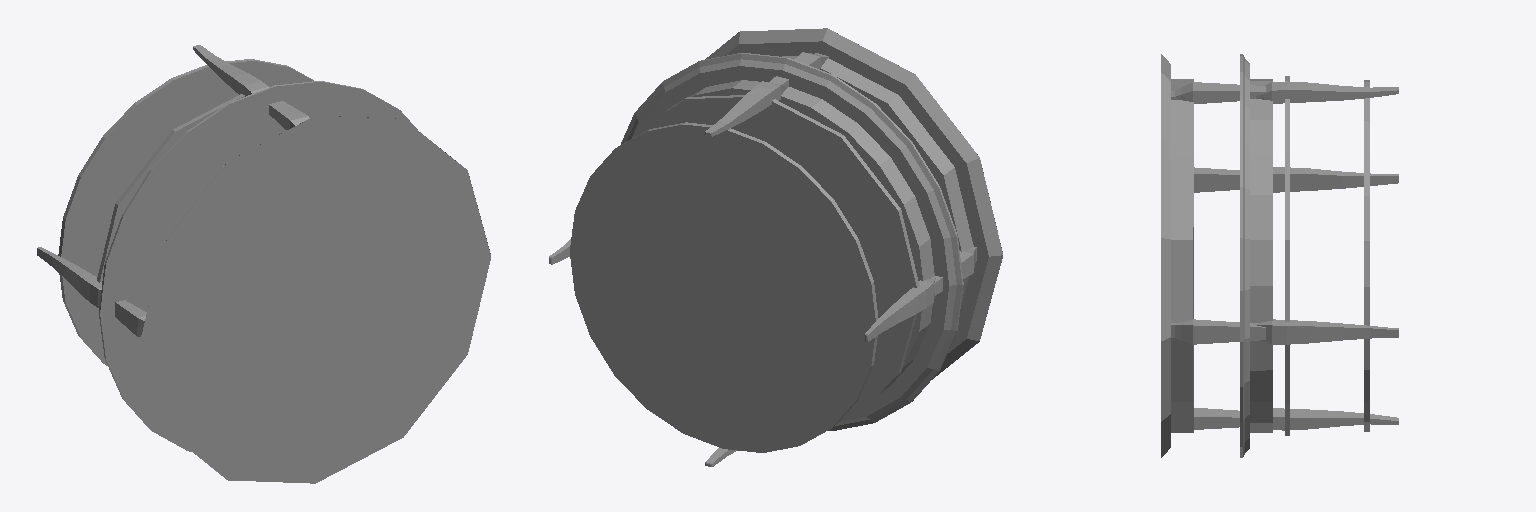
File: bnk_prop_lounge_table_round.obj
3 renders of one model, left to right at view 1: azimuth 30°, elevation 25°; view 2: azimuth 150°, elevation 25°; view 3: azimuth 270°, elevation 25°, orthographic.
Visible parts, largest first — view 1: g_bnk_prop_lounge_table_round_lod1, g_bnk_prop_lounge_table_round; view 2: g_bnk_prop_lounge_table_round, g_bnk_prop_lounge_table_round_lod1; view 3: g_bnk_prop_lounge_table_round, g_bnk_prop_lounge_table_round_lod1.
Part boxes in pixels (bbox=[...]): g_bnk_prop_lounge_table_round_lod1: bbox=[97, 94, 490, 483]; g_bnk_prop_lounge_table_round: bbox=[37, 45, 417, 451]; g_bnk_prop_lounge_table_round: bbox=[549, 53, 963, 466]; g_bnk_prop_lounge_table_round_lod1: bbox=[644, 28, 1002, 419]; g_bnk_prop_lounge_table_round: bbox=[1240, 54, 1398, 457]; g_bnk_prop_lounge_table_round_lod1: bbox=[1161, 54, 1289, 457].
Size of the model in its own units: 124 by 124 by 72.63.